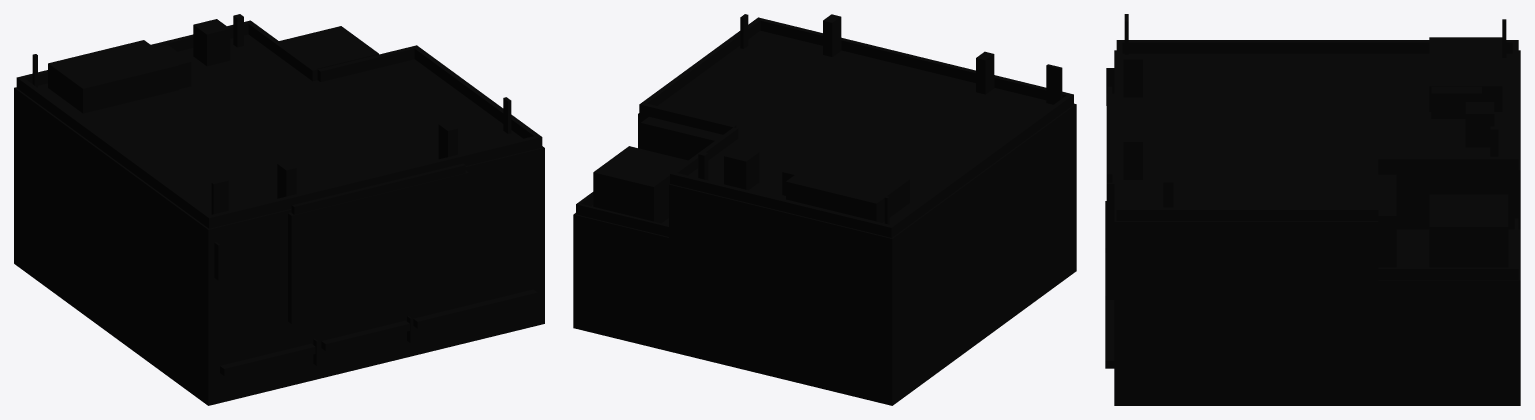
File: far-Djoq_UEK.glb
3 views of the same model, side by side, from view 1: azimuth 30°, elevation 25°; view 2: azimuth 150°, elevation 25°; view 3: azimuth 270°, elevation 25° (orthographic). The views are drawn at different scales.
Visible parts, largest first — view 1: farBaked; view 2: farBaked; view 3: farBaked.
Part boxes in pixels (x1=…): farBaked: x1=14, y1=14, x2=544, y2=405; farBaked: x1=573, y1=14, x2=1076, y2=405; farBaked: x1=1105, y1=14, x2=1520, y2=405.
Bounding box in the file's own units: 20 × 12.25 × 20.45.
Materials: 1 (1 with a texture image).
